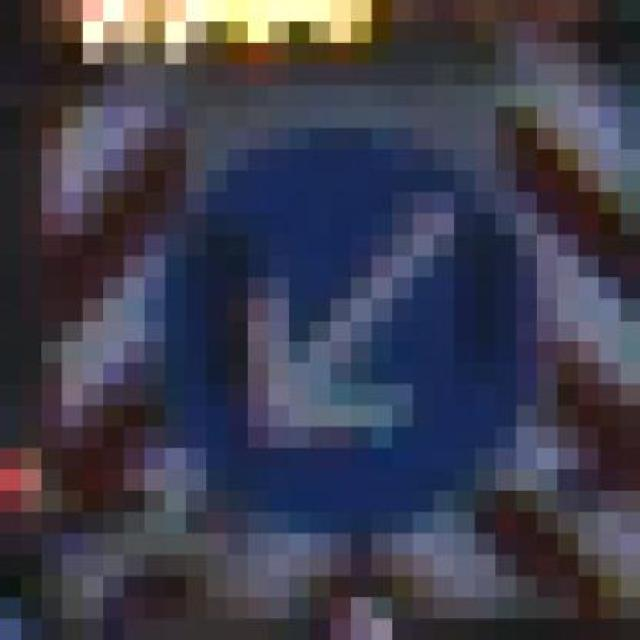Keep-Left: (144, 106, 558, 534)
